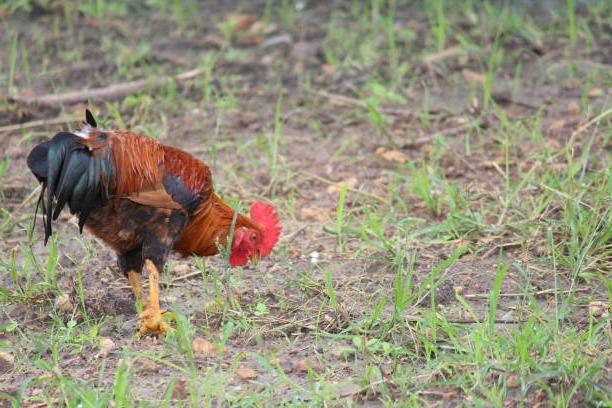AbNormal: (28, 113, 285, 346)
